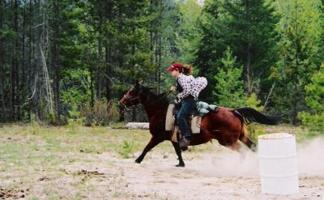person: (167, 62, 208, 151)
